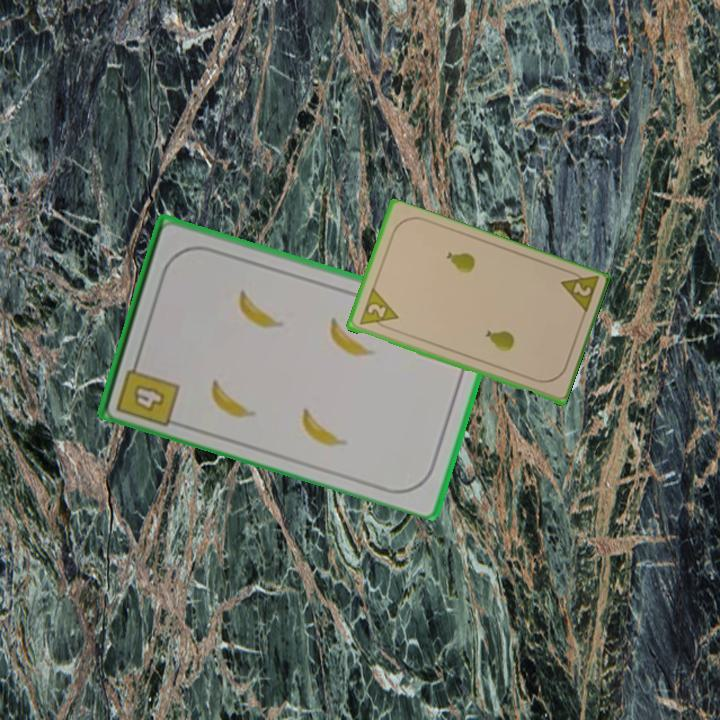2p: (556, 266, 601, 318), (355, 286, 401, 333)
4b: (112, 352, 182, 429)
